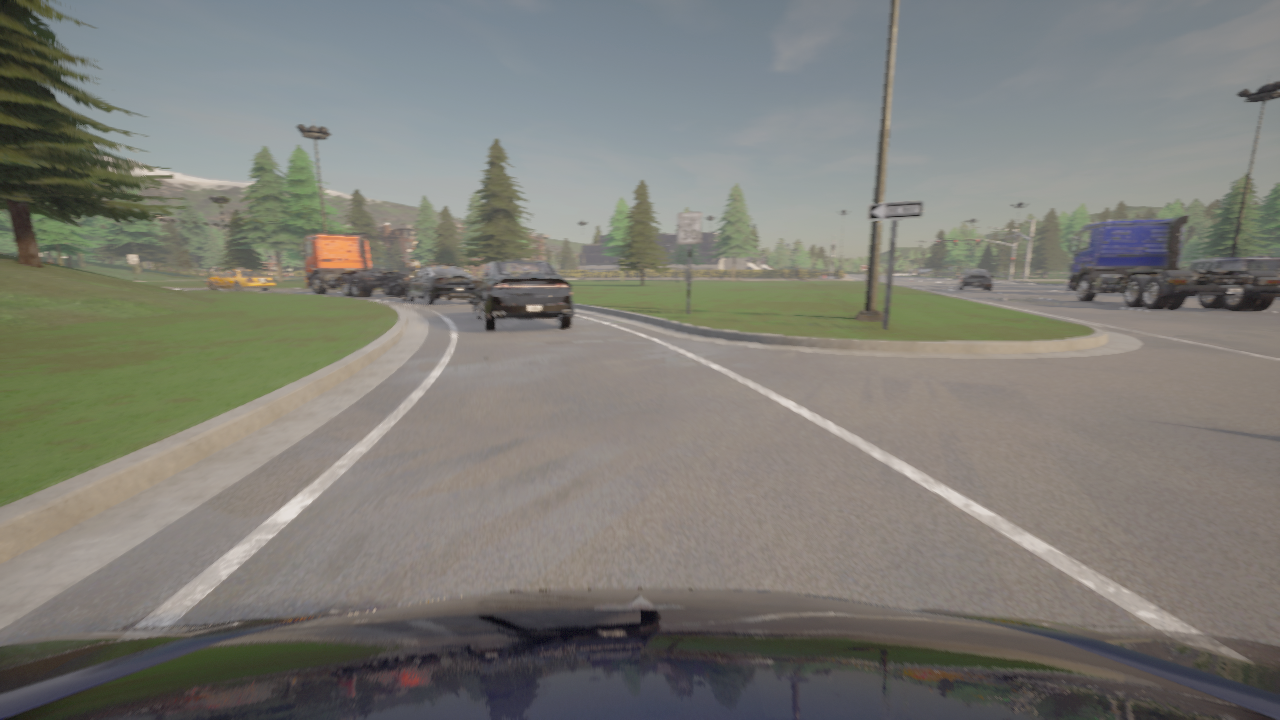cyclist: (0, 588, 1279, 719), (1066, 214, 1279, 311), (468, 260, 572, 331), (299, 234, 411, 297), (406, 263, 477, 304), (1182, 257, 1279, 273), (206, 268, 275, 290), (957, 269, 992, 290)
